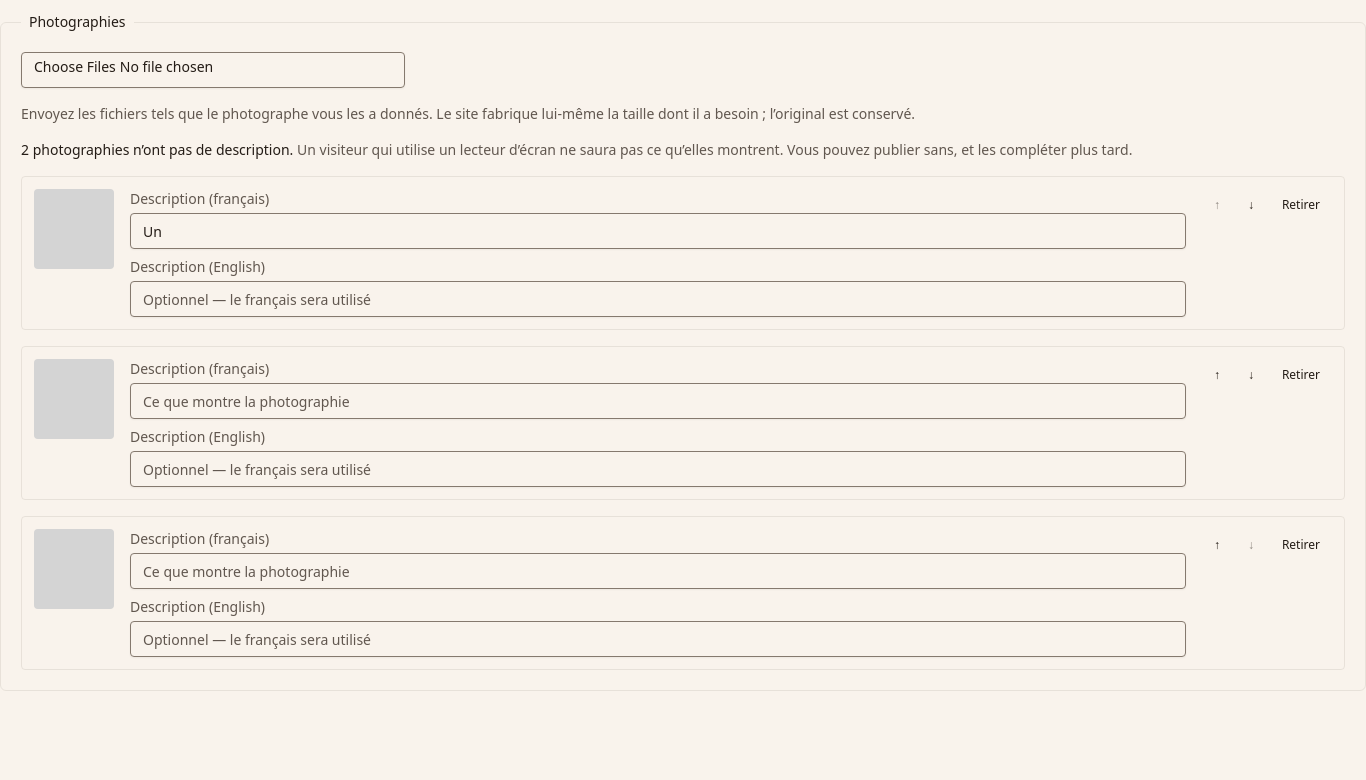
Test case: PhotographManager › says a caption was saved, rather than saving it silently
Click the button named "Descendre la photographie 1": (1251, 205) [1236, 189, 1266, 221]
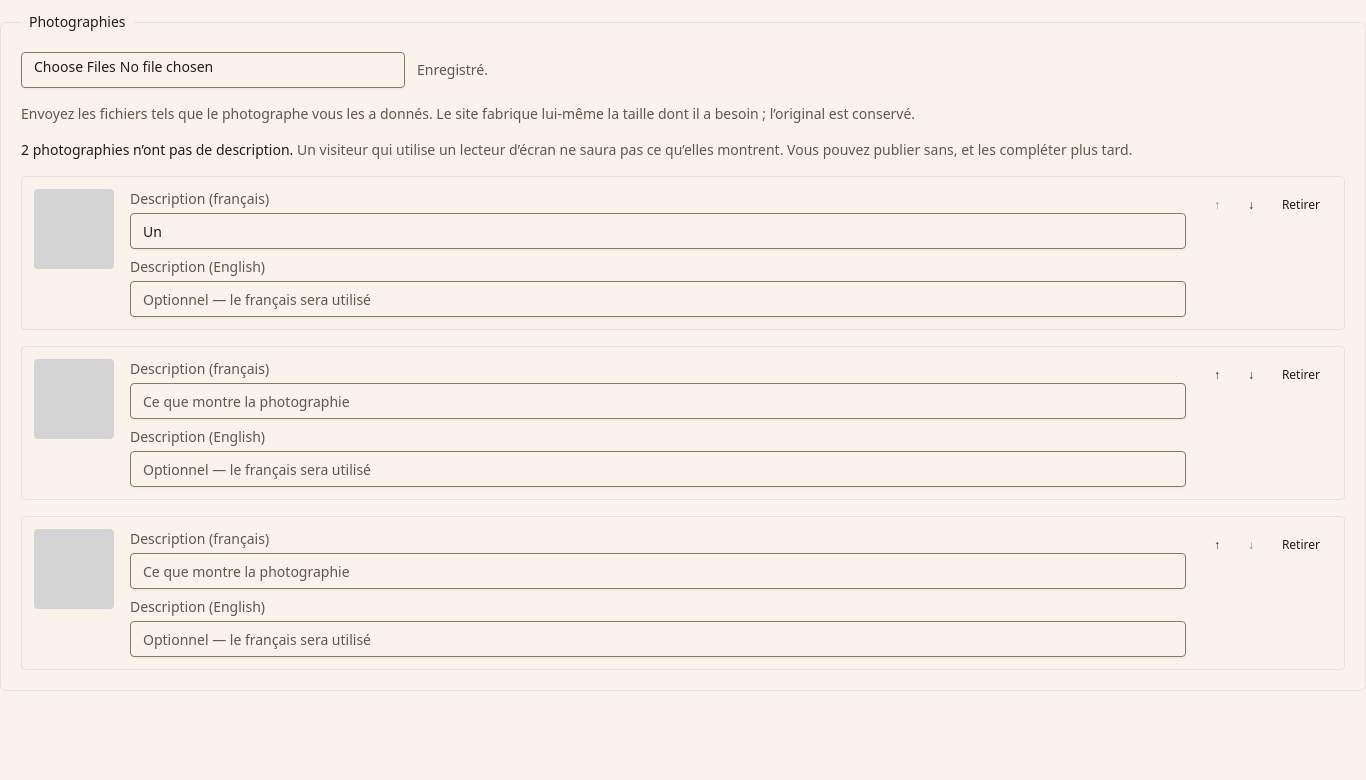
Result: the text "Enregistré." is shown at [417, 60, 488, 80]
